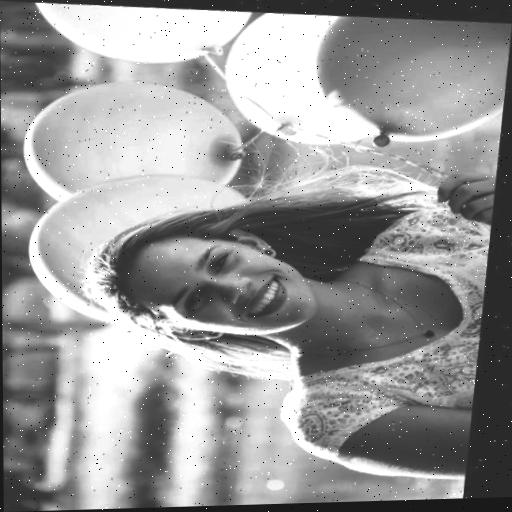balloon: (26, 170, 270, 329), (21, 73, 249, 202), (314, 9, 512, 153), (221, 8, 383, 150), (34, 0, 258, 69)
